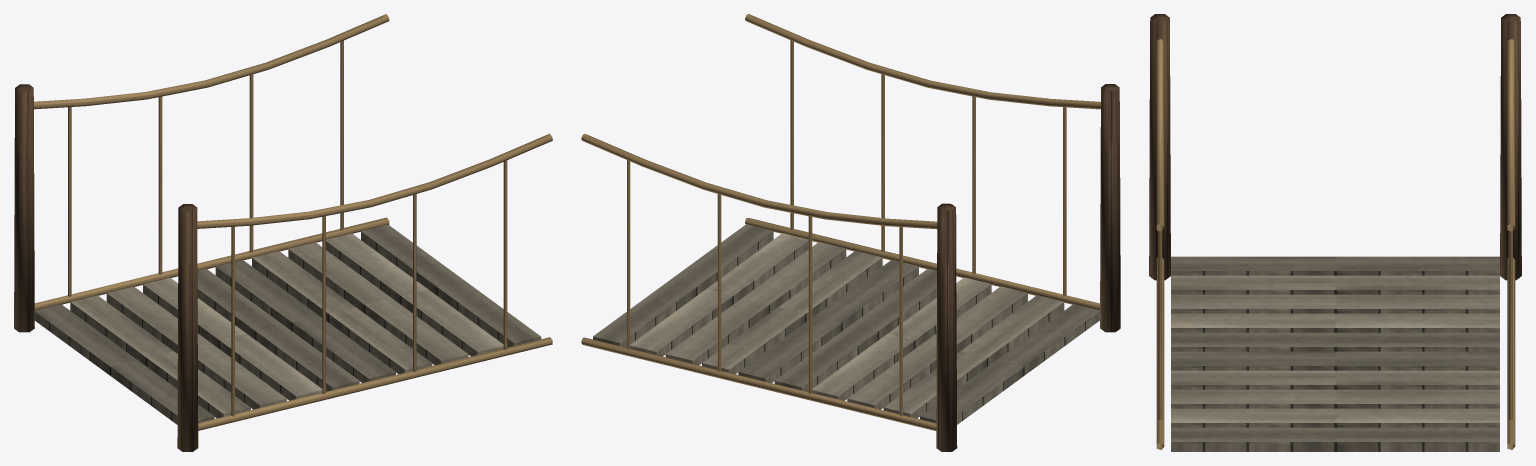
Rendered from Bridge_Rope_Deck_1.gltf.
3 views of the same model, side by side, from view 1: azimuth 30°, elevation 25°; view 2: azimuth 150°, elevation 25°; view 3: azimuth 270°, elevation 25° (orthographic). The views are drawn at different scales.
Parts seen in each view (by area): view 1: Bridge_Rope_Deck_1; view 2: Bridge_Rope_Deck_1; view 3: Bridge_Rope_Deck_1.
Part boxes in pixels (box(x1,y1,x2,y2)): Bridge_Rope_Deck_1: box(14, 14, 552, 451); Bridge_Rope_Deck_1: box(581, 14, 1120, 451); Bridge_Rope_Deck_1: box(1149, 14, 1521, 451).
Bounding box in the file's own units: 2.1 × 1.3 × 1.7.
3 materials, 3 textured.
